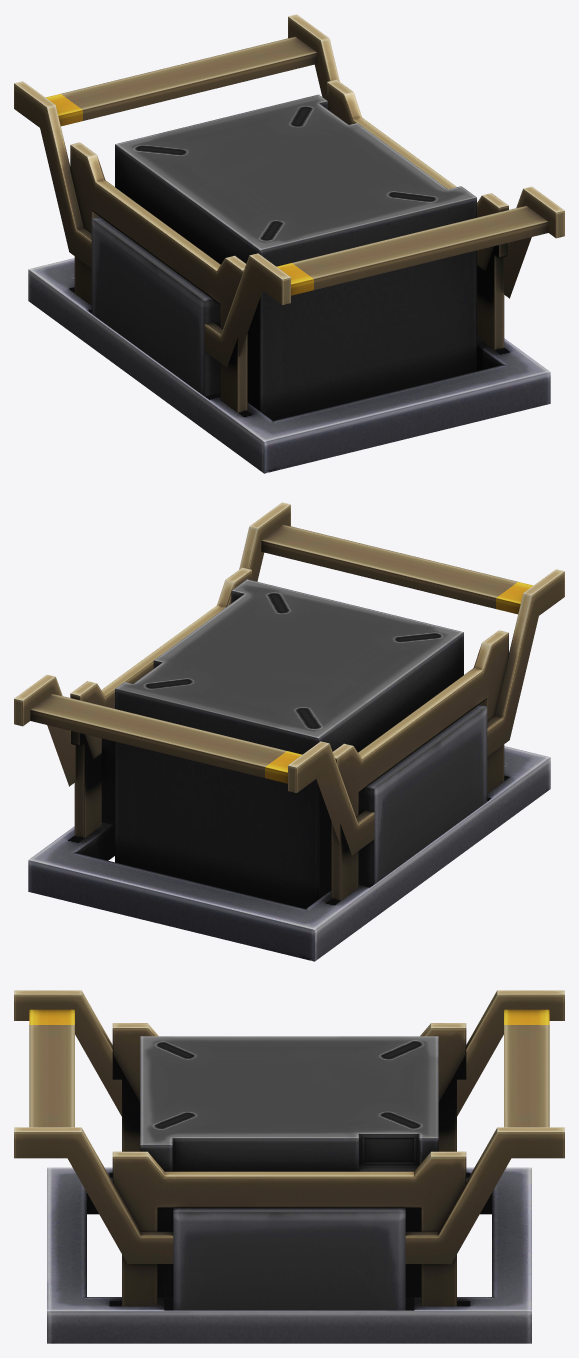
The model's file is trap_152_muruino.fbx.
3 renders of one model, top to bottom at view 1: azimuth 30°, elevation 25°; view 2: azimuth 150°, elevation 25°; view 3: azimuth 270°, elevation 25°, orthographic. The views are drawn at different scales.
Parts seen in each view (by area): view 1: trap_152_muruino; view 2: trap_152_muruino; view 3: trap_152_muruino.
Part boxes in pixels (bbox=[...]): trap_152_muruino: bbox=[14, 14, 564, 473]; trap_152_muruino: bbox=[14, 502, 564, 961]; trap_152_muruino: bbox=[14, 990, 564, 1343].
Bounding box in the file's own units: 0.4332 × 0.2967 × 0.7024.
Materials: 1 (1 with a texture image).
